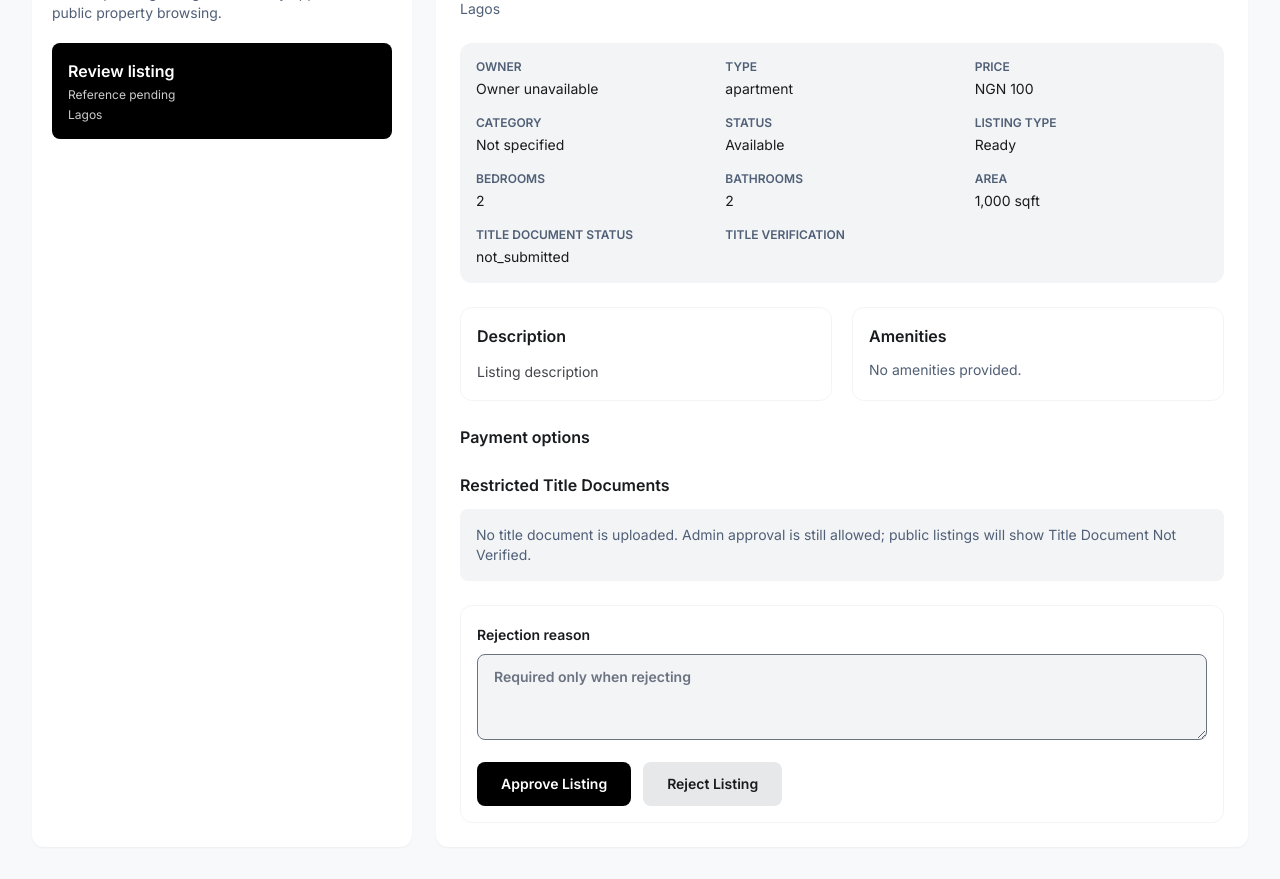
Scenario: admin listing approval bound step-up › shows rate-limit guidance without submitting or discarding a still-live challenge
(page scrolled)
Click the button "Approve Listing" at (554, 784), box x1=477 y1=762 x2=631 y2=806
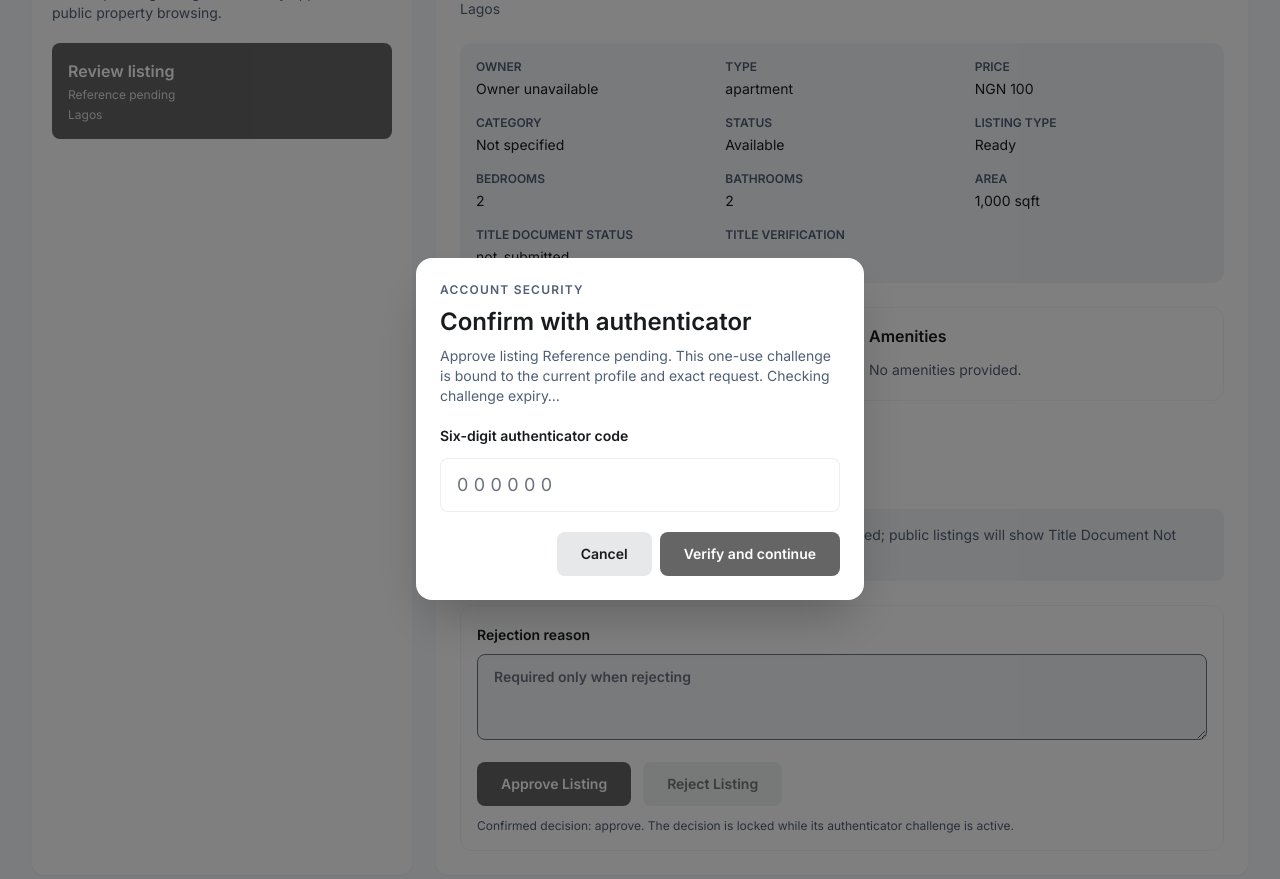
Type "123456" into the field labelled "Six-digit authenticator code" at (640, 485), box x1=440 y1=458 x2=840 y2=512
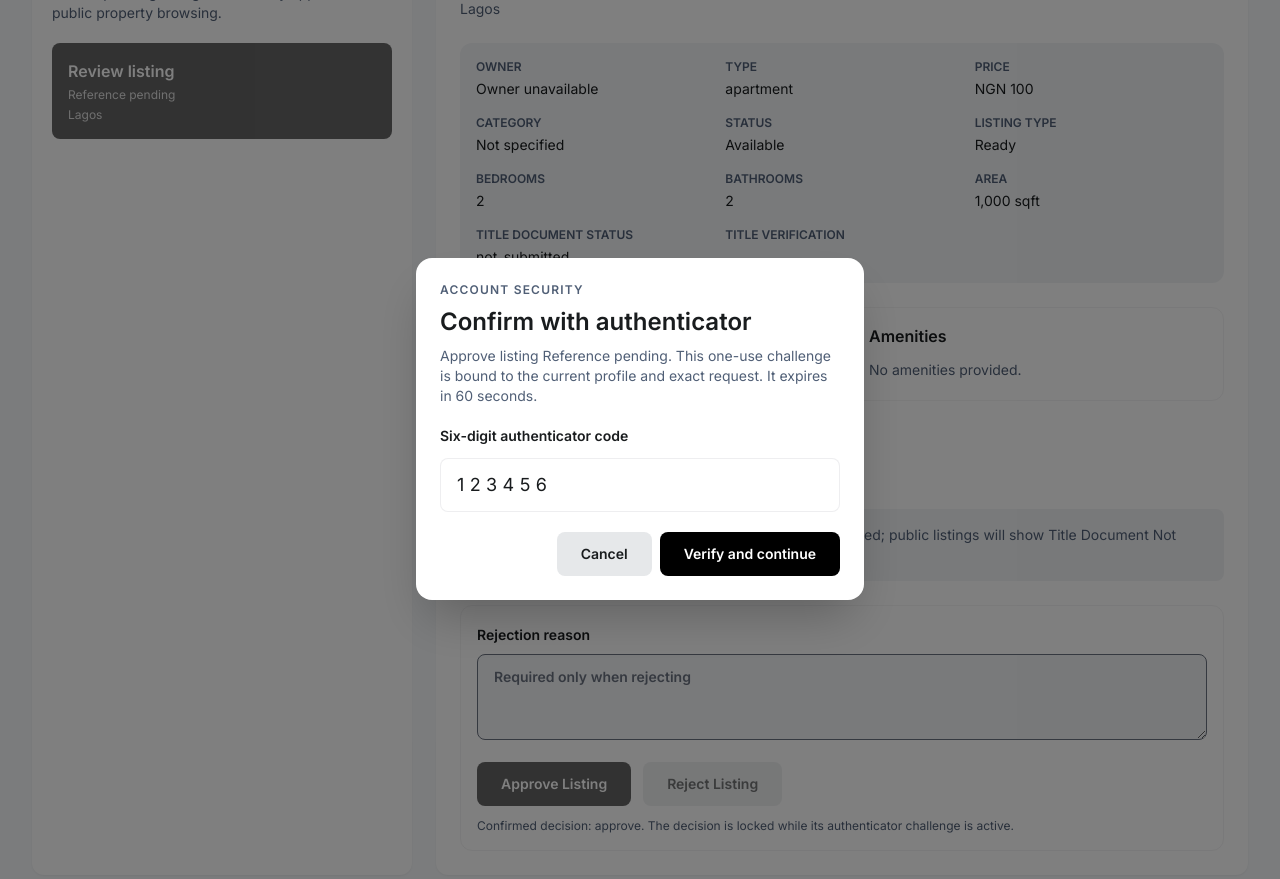
Expected: the button "Verify and continue" is enabled
Click the button "Verify and continue" at (750, 554), box x1=660 y1=532 x2=840 y2=576
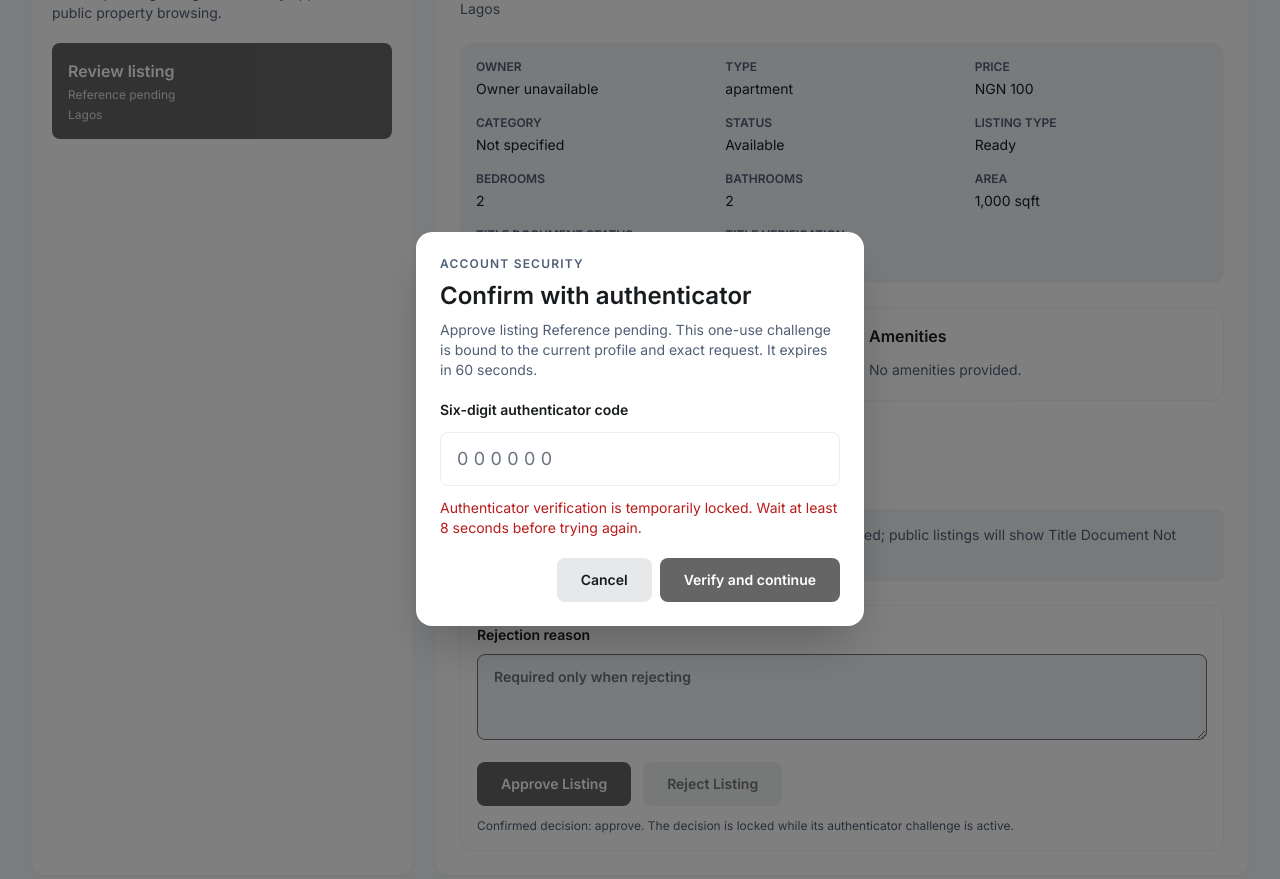
Expected: the field labelled "Six-digit authenticator code" is shown, x1=440 y1=432 x2=840 y2=486
Expected: the text "Wait at least 8 seconds" is shown, x1=440 y1=499 x2=837 y2=536
